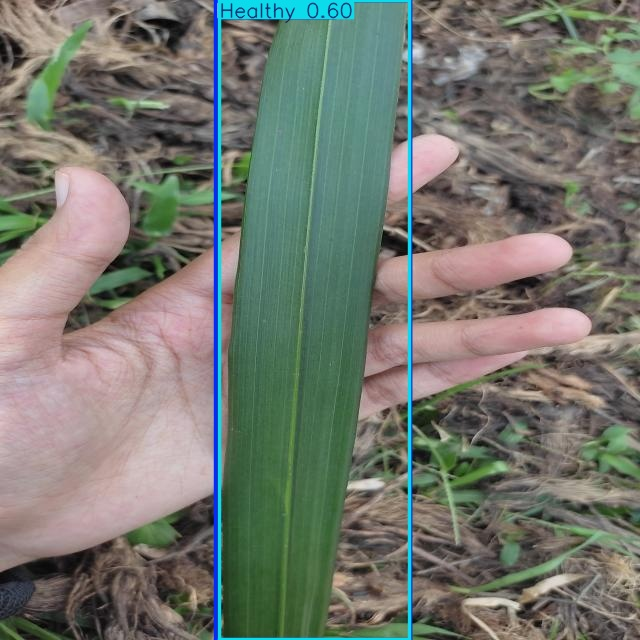Boron: (216, 0, 411, 640)
Healthy: (220, 0, 409, 640)
nitrogen: (219, 0, 411, 640)
